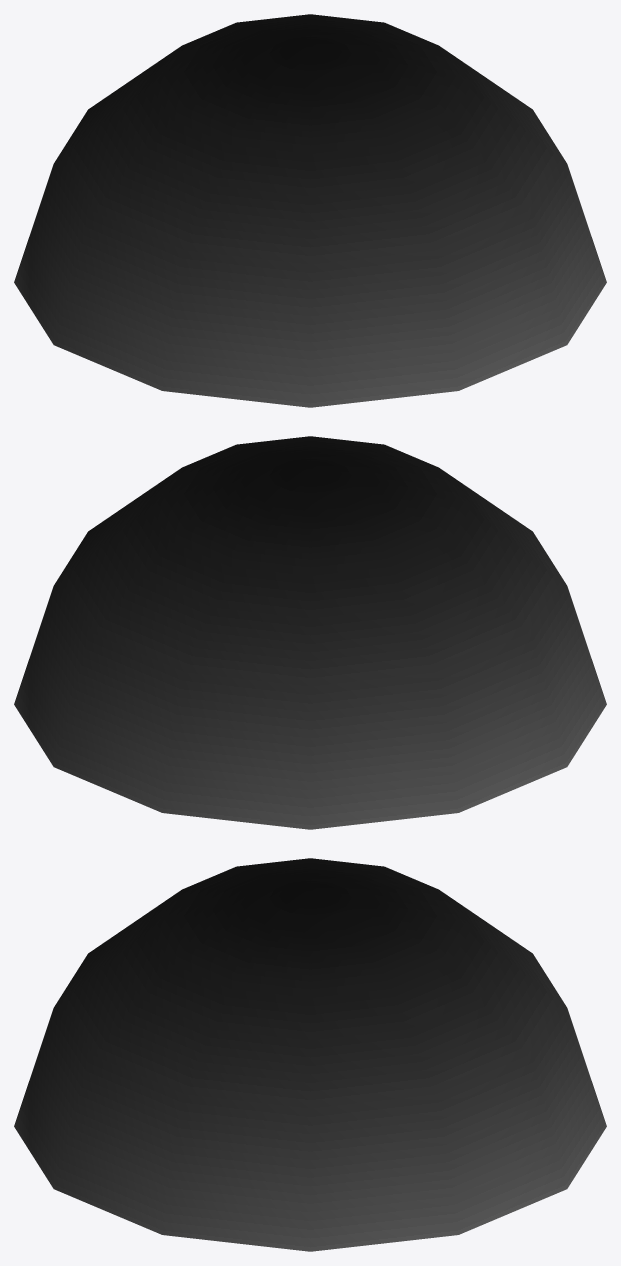
Rendered from item_Shield_mesh.FBX.
3 views of the same model, one above another, from view 1: azimuth 30°, elevation 25°; view 2: azimuth 150°, elevation 25°; view 3: azimuth 270°, elevation 25° (orthographic).
Parts seen in each view (by area): view 1: eff_Shield_mesh; view 2: eff_Shield_mesh; view 3: eff_Shield_mesh.
Boxes of the visible parts, x1,y1,x2,y2 form: eff_Shield_mesh: [14, 14, 606, 407]; eff_Shield_mesh: [14, 436, 606, 829]; eff_Shield_mesh: [14, 858, 606, 1251].
Bounding box in the file's own units: 0.7172 × 0.3169 × 0.7172.
